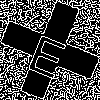E: (25, 25, 73, 80)
